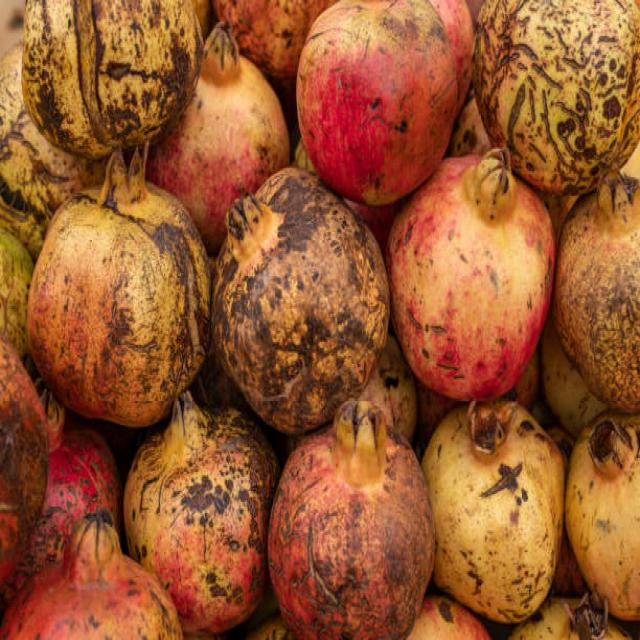overripe: (25, 143, 216, 427), (212, 164, 392, 415), (215, 168, 392, 416), (265, 399, 439, 640), (394, 152, 554, 404), (122, 402, 267, 640), (476, 0, 639, 193), (292, 4, 459, 176), (14, 0, 209, 141)
